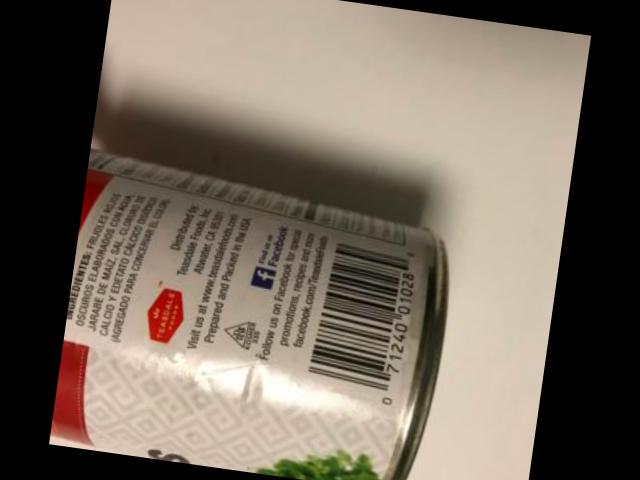metal: (50, 152, 442, 480)
